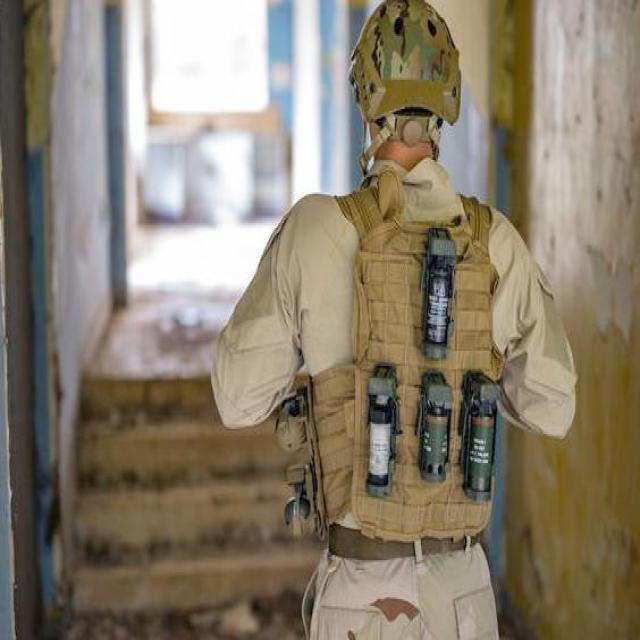grenade: (461, 370, 502, 503), (421, 224, 458, 365), (366, 369, 404, 496), (416, 374, 455, 484), (285, 463, 315, 543), (276, 393, 308, 456)
